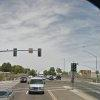Traffic light: (8, 43, 45, 58)
